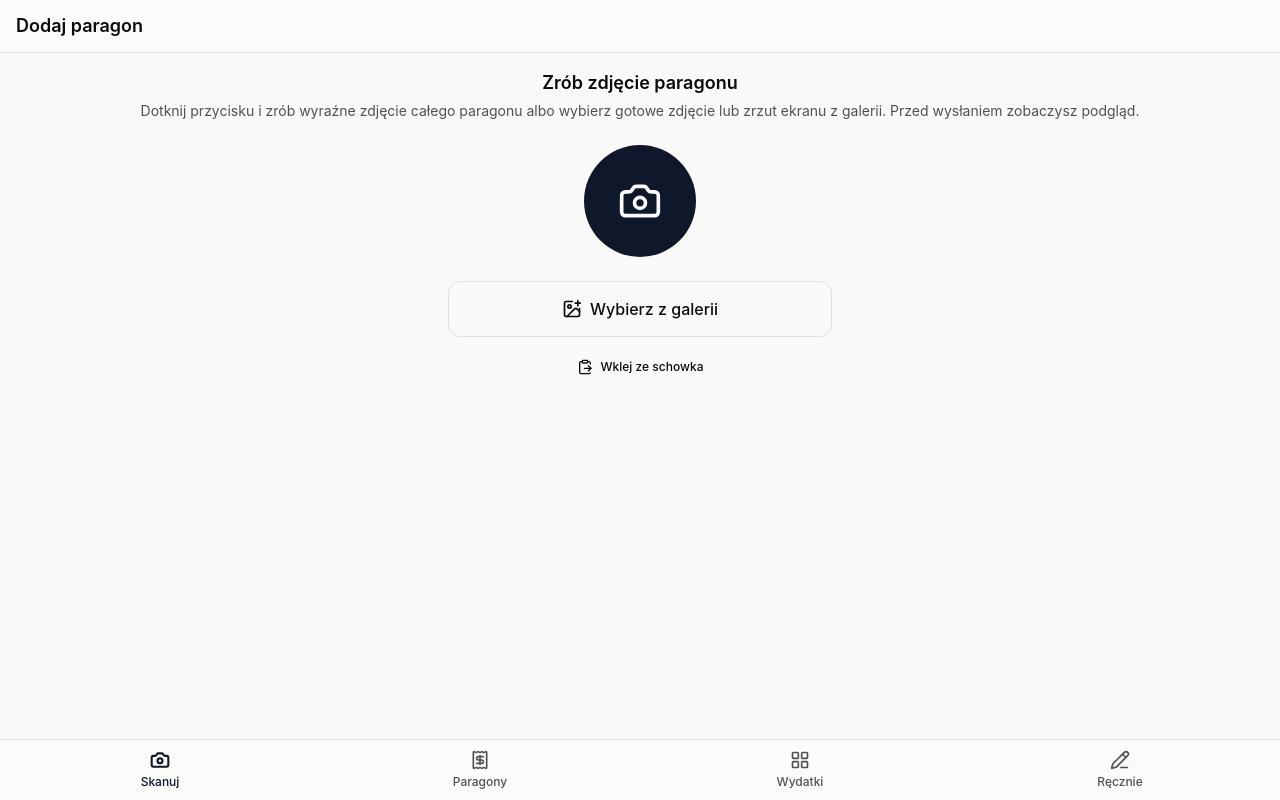
Scenario: CaptureRoute — Wklej ze schowka button › shows a hint to use the gallery when clipboard permission is denied
Click the button "Wklej ze schowka".
click(640, 367)  # box [448,345,832,389]
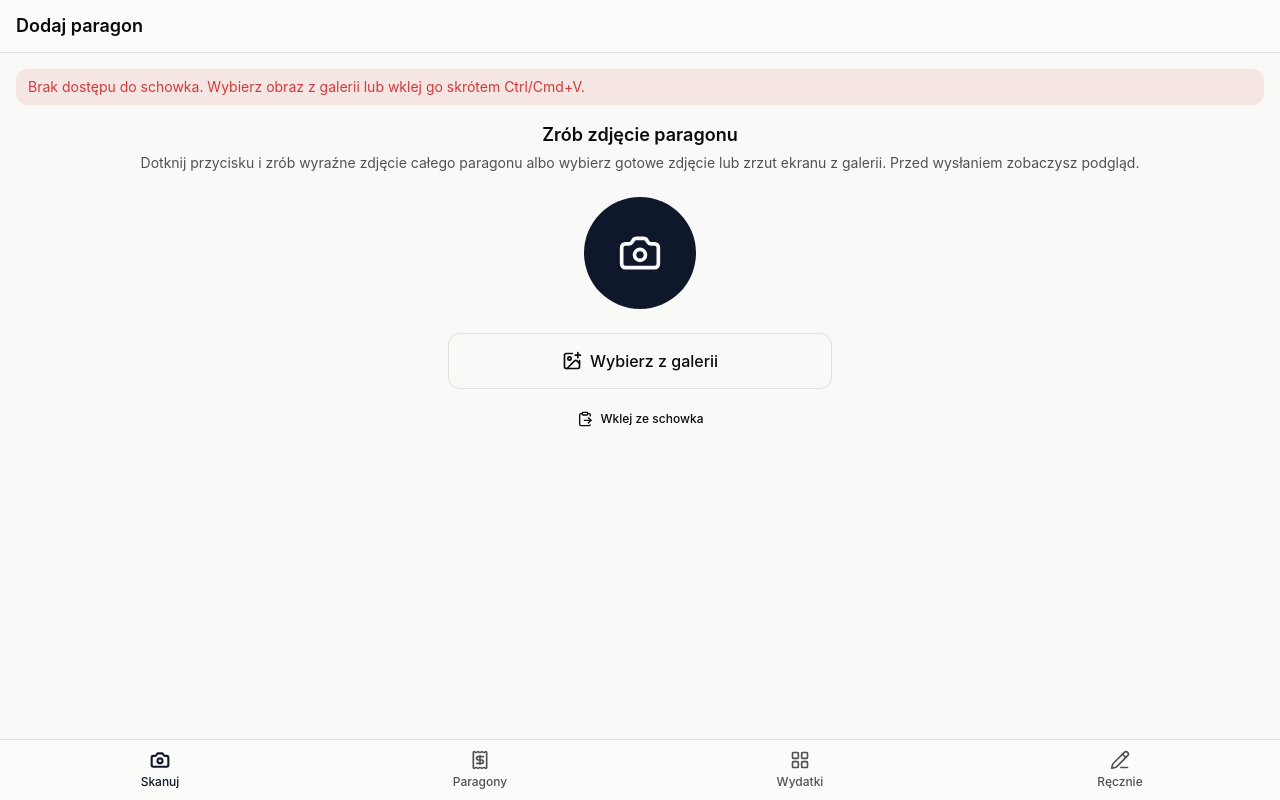
Result: the message shows "Brak dostępu do schowka. Wybierz obraz z galerii lub wklej go skrótem Ctrl/Cmd+V." at [28,78,585,95]
